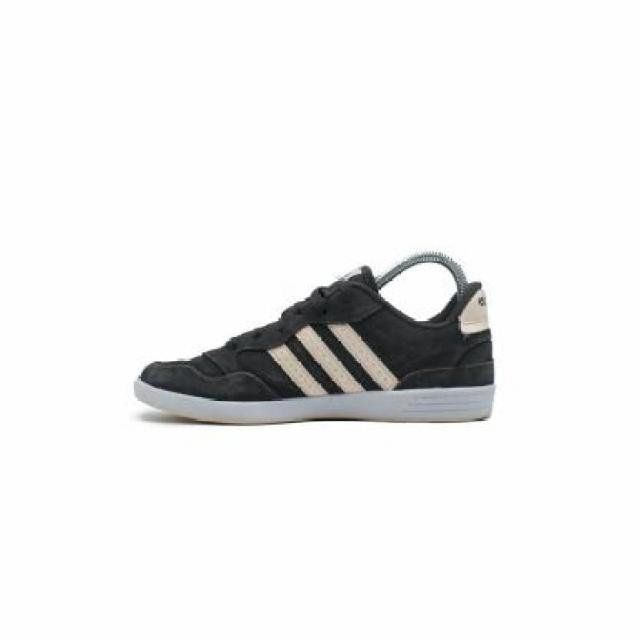Adidas: (264, 315, 401, 404)
